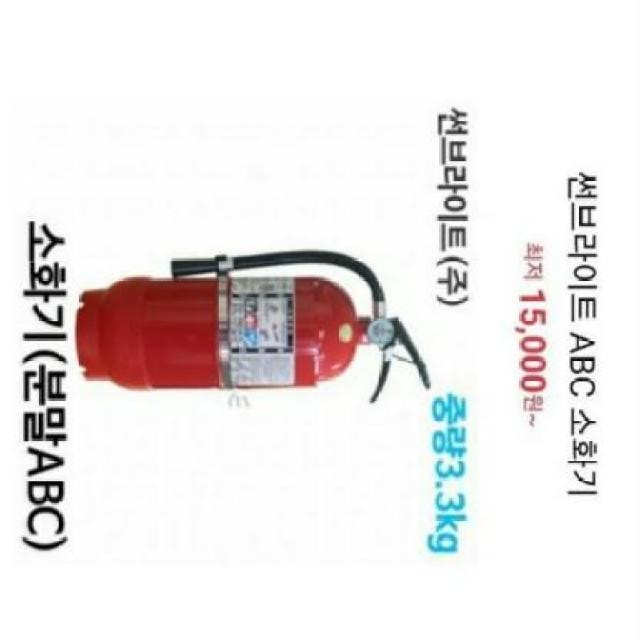fire extinguisher: (75, 249, 431, 406)
